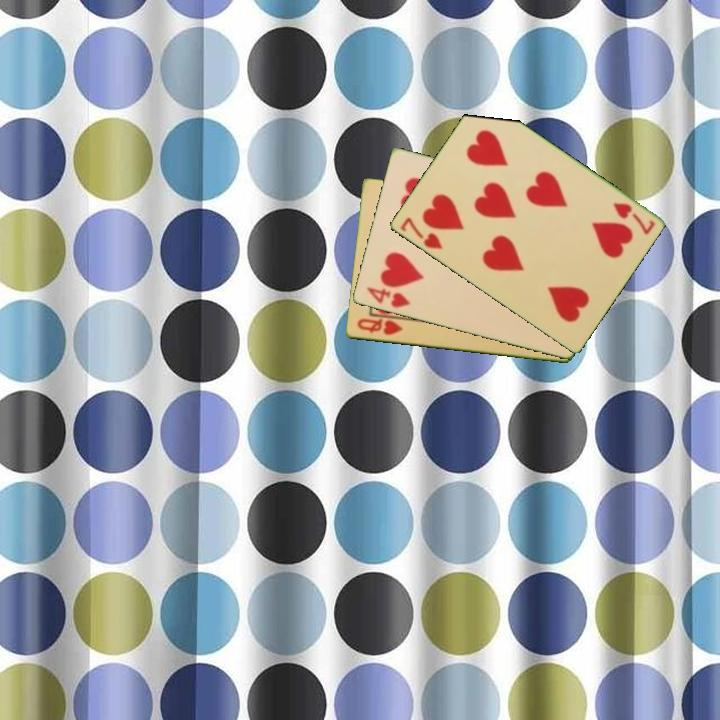4h: (363, 284, 413, 311)
7h: (609, 199, 658, 238), (396, 214, 446, 252)
Qh: (354, 315, 405, 338)
